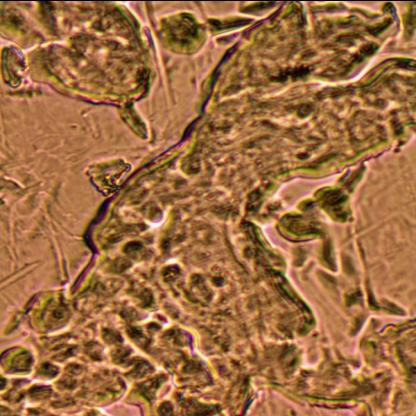Normal: (138, 0, 416, 416), (0, 291, 416, 416)
